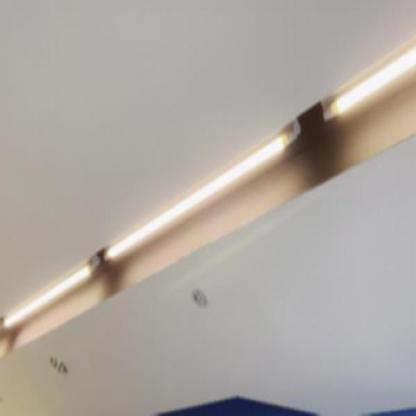light_on: (103, 114, 306, 270), (0, 237, 99, 340), (320, 32, 416, 135)
